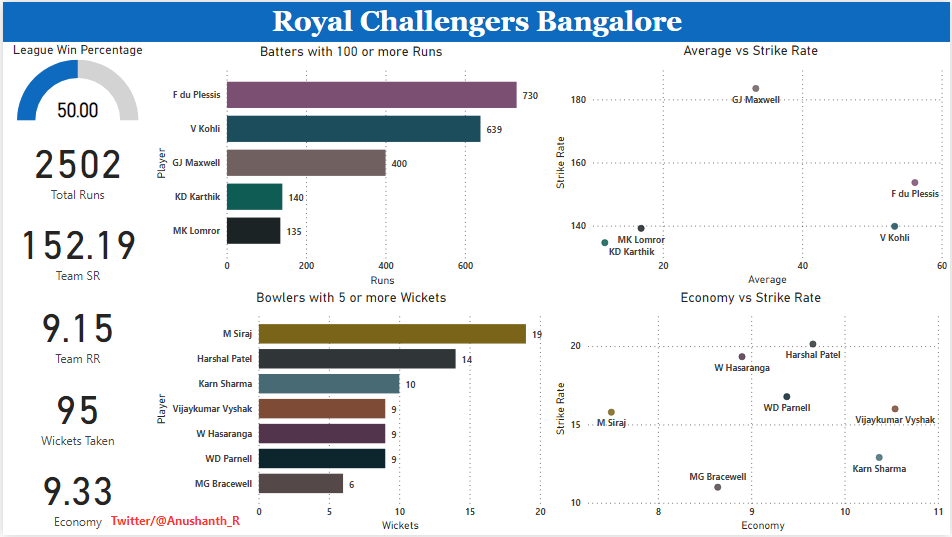

The page's visual inventory and layout, read from the dashboard file:
{"tool":"powerbi","page":{"name":"RCB","canvas":[1280,720],"ordinal":6},"visuals":[{"type":"textbox","box":[0,0,1280.5,54.1],"z":0},{"type":"scatterChart","title":"Average vs Strike Rate","fields":{"Category":["all_batters.Player"],"Y":["Sum(all_batters.SR)"],"X":["Sum(all_batters.Average)"],"Series":["all_batters.Player"]},"box":[740.5,54.1,540,333.7],"z":1000},{"type":"card","fields":{"Values":["Sum(teamwise_batting.Runs)"]},"box":[0,165.6,201.6,110.9],"z":2000},{"type":"card","fields":{"Values":["Sum(teamwise_batting.SR)"]},"box":[0,276.2,201.6,111.3],"z":3000},{"type":"card","fields":{"Values":["Sum(teamwise_batting.RR)"]},"box":[0,387.4,201.6,110.9],"z":4000},{"type":"card","fields":{"Values":["Sum(teamwise_bowling.Wickets)"]},"box":[0,498.2,201.6,111],"z":5000},{"type":"card","fields":{"Values":["Sum(teamwise_bowling.Economy)"]},"box":[0,607.7,201.6,111],"z":6000},{"type":"barChart","title":"Bowlers with 5 or more Wickets","fields":{"Category":["all_bowlers.Player"],"Y":["Sum(all_bowlers.Wickets)"],"Series":["all_bowlers.Player"]},"box":[202,387.8,538.5,332.2],"z":7000},{"type":"scatterChart","title":"Economy vs Strike Rate","fields":{"Category":["all_bowlers.Player"],"X":["Sum(all_bowlers.Economy)"],"Y":["Sum(all_bowlers.SR)"],"Series":["all_bowlers.Player"]},"box":[740.5,387.8,540,332.2],"z":8000},{"type":"gauge","title":"League Win Percentage","fields":{"Y":["Sum(matches_won.Win Percantage)"]},"box":[0,54.1,202,111],"z":9000},{"type":"barChart","title":"Batters with 100 or more Runs","fields":{"Category":["all_batters.Player"],"Y":["Sum(all_batters.Runs)"],"Series":["all_batters.Player"]},"box":[201.6,55,538,332.5],"z":10000},{"type":"textbox","box":[140,685.4,194.4,31.7],"z":11000}]}

Visuals, with their boxes in screenshot pixels (x1, y1, x2, y2), scaled from the page's 1280x720 canvas onto the 952x537 screenshot:
textbox: <bbox>0, 0, 951, 40</bbox>
"Average vs Strike Rate" scatterChart: <bbox>551, 40, 951, 289</bbox>
card - Sum(teamwise_batting.Runs): <bbox>0, 124, 150, 206</bbox>
card - Sum(teamwise_batting.SR): <bbox>0, 206, 150, 289</bbox>
card - Sum(teamwise_batting.RR): <bbox>0, 289, 150, 372</bbox>
card - Sum(teamwise_bowling.Wickets): <bbox>0, 372, 150, 454</bbox>
card - Sum(teamwise_bowling.Economy): <bbox>0, 453, 150, 536</bbox>
"Bowlers with 5 or more Wickets" barChart: <bbox>150, 289, 551, 536</bbox>
"Economy vs Strike Rate" scatterChart: <bbox>551, 289, 951, 536</bbox>
"League Win Percentage" gauge: <bbox>0, 40, 150, 123</bbox>
"Batters with 100 or more Runs" barChart: <bbox>150, 41, 550, 289</bbox>
textbox: <bbox>104, 511, 249, 535</bbox>
